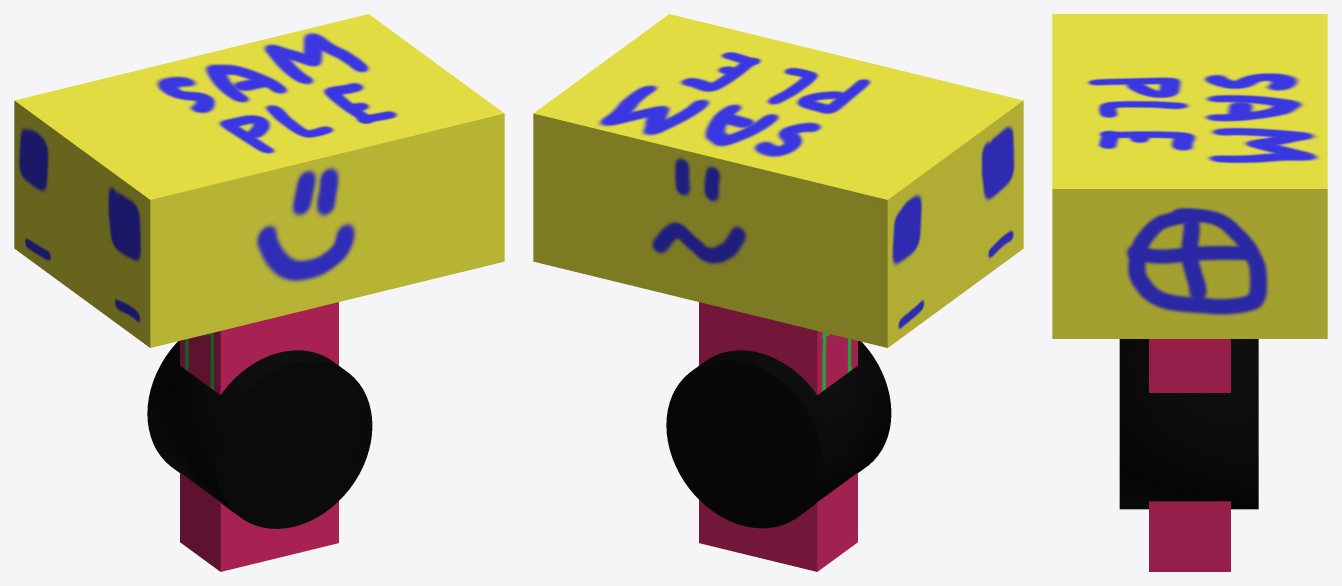
The model's file is sample1.obj.
3 views of the same model, side by side, from view 1: azimuth 30°, elevation 25°; view 2: azimuth 150°, elevation 25°; view 3: azimuth 270°, elevation 25° (orthographic).
Parts seen in each view (by area): view 1: c_Cube, b_Cylinder, d_Cube.001, a_Cylinder.001; view 2: c_Cube, b_Cylinder, d_Cube.001; view 3: c_Cube, b_Cylinder, d_Cube.001, a_Cylinder.001.
Boxes of the visible parts, box(x1,y1,x2,y2) form: c_Cube: box(14, 14, 504, 347); b_Cylinder: box(147, 341, 362, 518); d_Cube.001: box(180, 302, 338, 571); a_Cylinder.001: box(201, 360, 372, 528); c_Cube: box(533, 14, 1023, 347); b_Cylinder: box(666, 341, 890, 528); d_Cube.001: box(699, 302, 857, 571); c_Cube: box(1052, 14, 1327, 338); b_Cylinder: box(1121, 339, 1258, 509); d_Cube.001: box(1149, 339, 1230, 571); a_Cylinder.001: box(1119, 339, 1121, 509).
Bounding box in the file's own units: 3.01 × 3.54 × 2.
3 materials, 2 textured.
